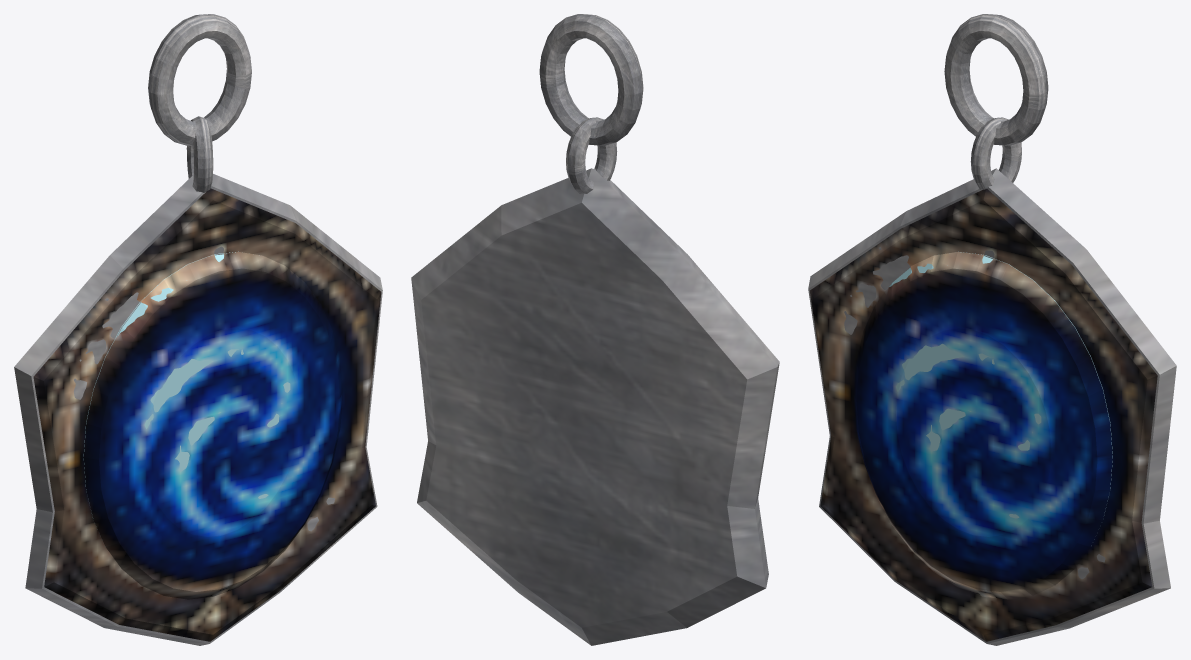
The model's file is seal_water.obj.
3 views of the same model, side by side, from view 1: azimuth 30°, elevation 25°; view 2: azimuth 150°, elevation 25°; view 3: azimuth 330°, elevation 25° (orthographic).
Parts seen in each view (by area): view 1: raised_emblem, painted_relief, medal_back, suspension_ring, raised_emblem_undercoat, joining_loop; view 2: medal_back, suspension_ring, joining_loop; view 3: raised_emblem, painted_relief, medal_back, suspension_ring, raised_emblem_undercoat, joining_loop.
Part boxes in pixels (x1=…): raised_emblem: x1=83, y1=252, x2=342, y2=599; painted_relief: x1=33, y1=188, x2=381, y2=641; medal_back: x1=14, y1=174, x2=382, y2=645; suspension_ring: x1=148, y1=14, x2=251, y2=145; raised_emblem_undercoat: x1=83, y1=251, x2=290, y2=546; joining_loop: x1=186, y1=116, x2=213, y2=192; medal_back: x1=411, y1=168, x2=779, y2=645; suspension_ring: x1=539, y1=14, x2=643, y2=145; joining_loop: x1=566, y1=117, x2=617, y2=193; raised_emblem: x1=853, y1=252, x2=1112, y2=599; painted_relief: x1=810, y1=188, x2=1157, y2=641; medal_back: x1=808, y1=168, x2=1176, y2=645; suspension_ring: x1=944, y1=14, x2=1048, y2=145; raised_emblem_undercoat: x1=889, y1=251, x2=1112, y2=545; joining_loop: x1=970, y1=117, x2=1021, y2=189.
Size of the model in its own units: 68.04 by 112 by 11.95.
Materials: 2 (2 with a texture image).
